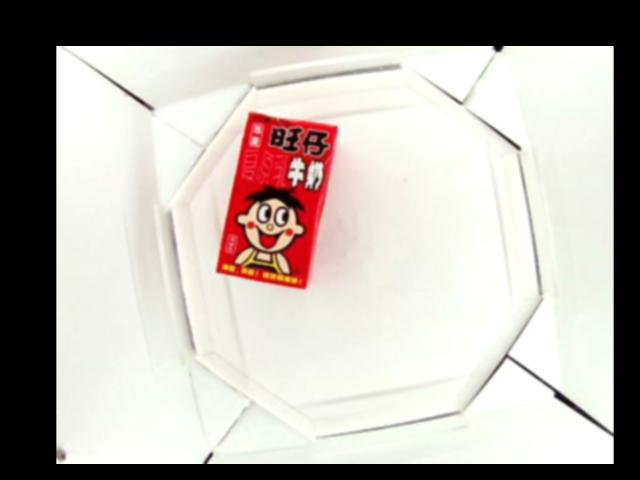Bottle: (213, 110, 339, 286)
